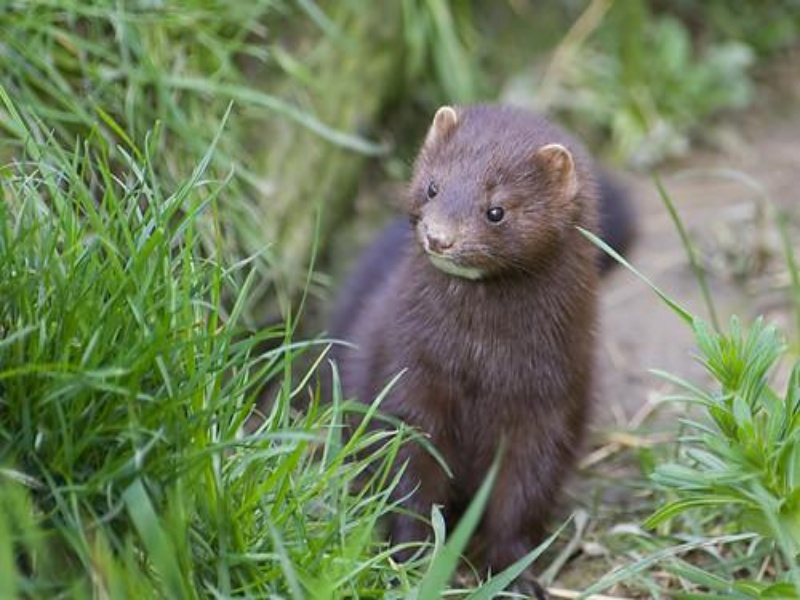minkish: (300, 97, 635, 572)
